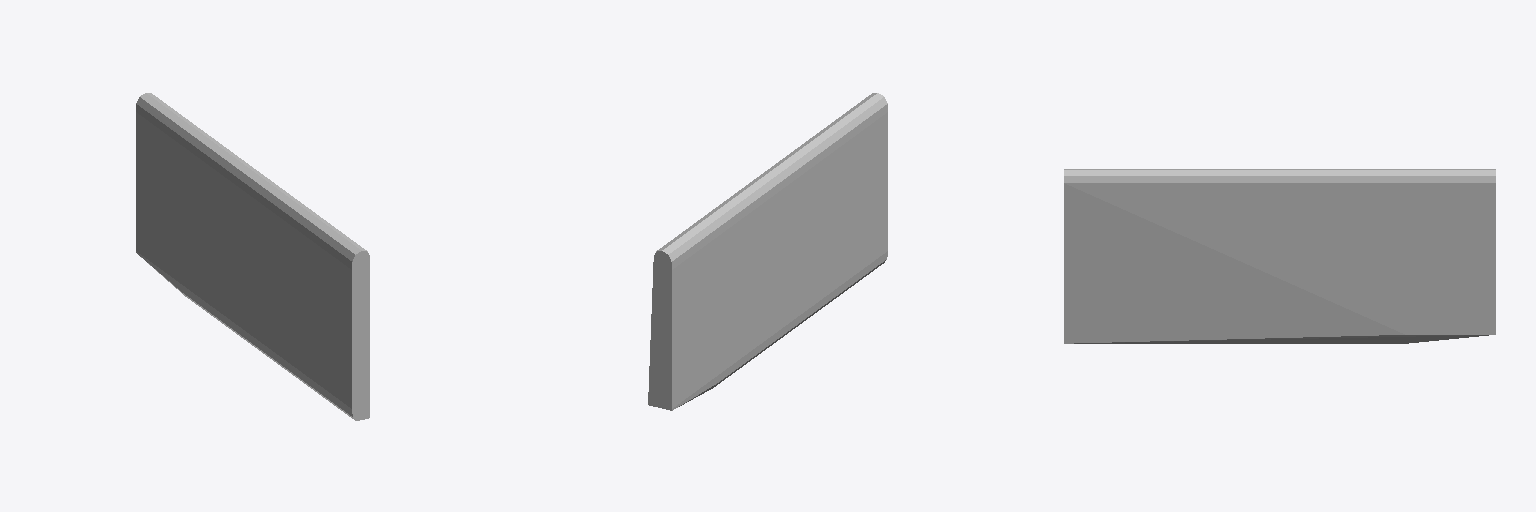
File: ShipScene_collision_1.obj
The picture shows the model from 3 angles: view 1: azimuth 30°, elevation 25°; view 2: azimuth 150°, elevation 25°; view 3: azimuth 270°, elevation 25°; orthographic projection.
Bounding box in the file's own units: 15.55 × 105 × 243.